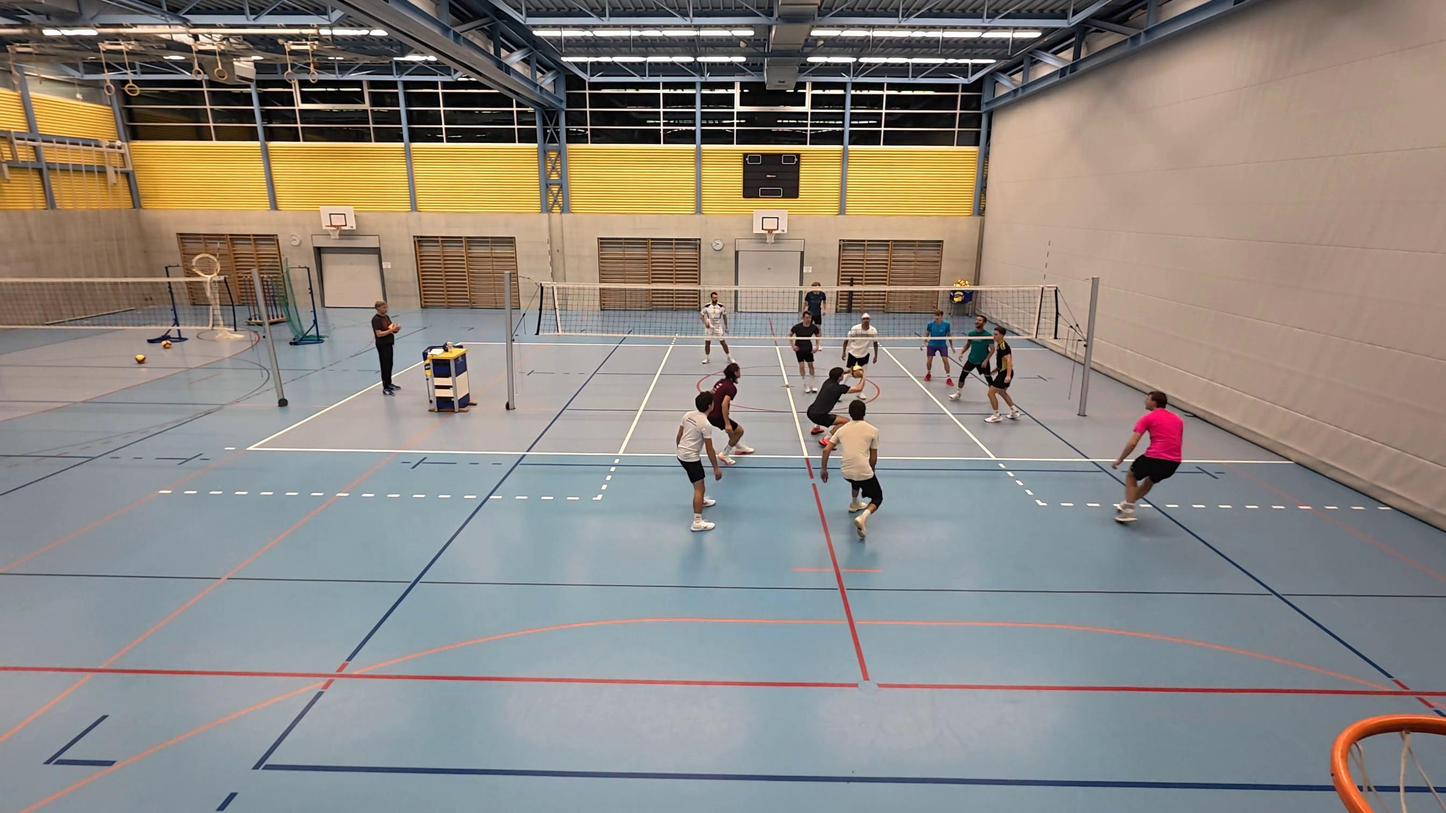difesa: (804, 360, 874, 448)
